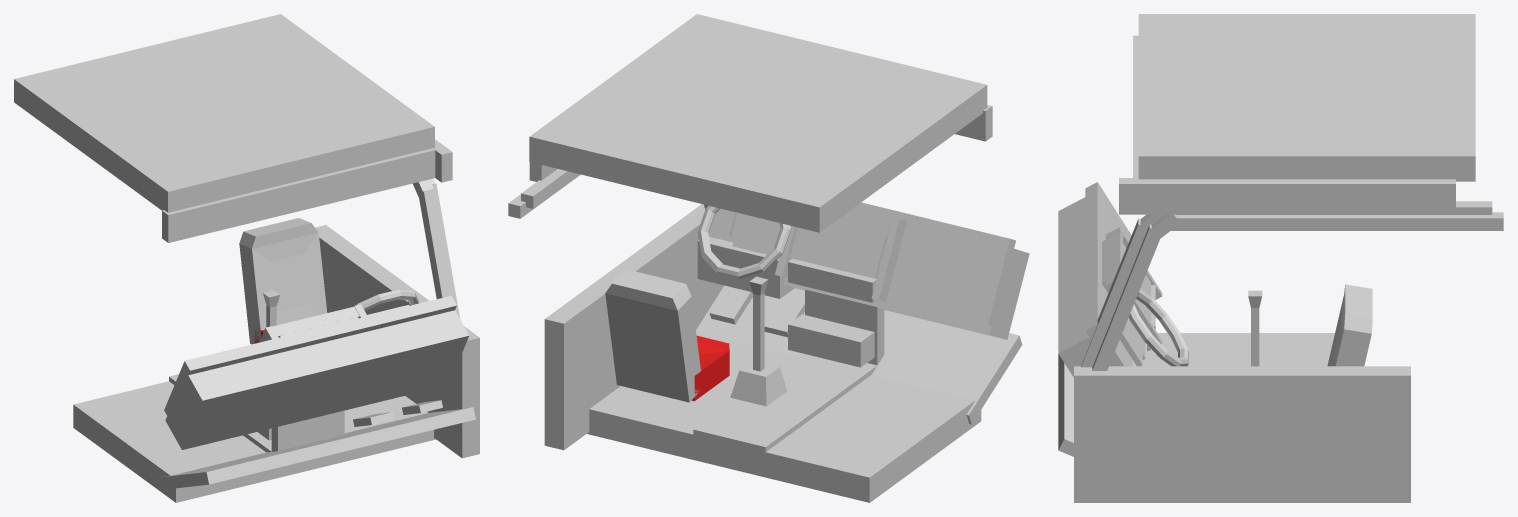
Rendered from Truck Cockpit.fbx.
The picture shows the model from 3 angles, left to right: view 1: azimuth 30°, elevation 25°; view 2: azimuth 150°, elevation 25°; view 3: azimuth 270°, elevation 25°; orthographic projection. The views are drawn at different scales.
Visible parts, largest first — view 1: cube_19, cube_7, cube_11, cube_17, cube_9, cube, cube_6, cube_4, cube_12, cube_5, cube_30, torus (+1 smaller); view 2: cube_19, cube_11, cube_9, cube_6, cube_4, cube, cube_10, cube_24, cube_27, cube_7, cube_33, cube_5 (+13 smaller); view 3: cube_19, cube_9, cube_18, cube_16, cube_11, cube_7, cube_4, cube, cube_8, cube_12, torus, cube_6 (+4 smaller).
Boxes of the visible parts, left/top/right/bottom form: cube_19: left=14, top=14, right=434, bottom=212; cube_7: left=165, top=310, right=469, bottom=449; cube_11: left=73, top=381, right=435, bottom=502; cube_17: left=162, top=148, right=435, bottom=242; cube_9: left=315, top=225, right=479, bottom=458; cube: left=239, top=218, right=327, bottom=344; cube_6: left=160, top=407, right=475, bottom=489; cube_4: left=164, top=295, right=456, bottom=419; cube_12: left=419, top=189, right=456, bottom=312; cube_5: left=271, top=410, right=344, bottom=451; cube_30: left=266, top=306, right=359, bottom=338; torus: left=355, top=289, right=418, bottom=310; cube_19: left=529, top=14, right=987, bottom=232; cube_11: left=587, top=332, right=981, bottom=502; cube_9: left=544, top=204, right=724, bottom=450; cube_6: left=696, top=285, right=1022, bottom=424; cube_4: left=708, top=202, right=1015, bottom=326; cube: left=605, top=269, right=700, bottom=402; cube_10: left=693, top=352, right=877, bottom=454; cube_24: left=790, top=225, right=886, bottom=278; cube_27: left=788, top=314, right=874, bottom=367; cube_7: left=783, top=248, right=1029, bottom=339; cube_33: left=697, top=236, right=794, bottom=298; cube_5: left=805, top=289, right=884, bottom=365; cube_19: left=1138, top=14, right=1475, bottom=181; cube_9: left=1074, top=366, right=1410, bottom=502; cube_18: left=1119, top=178, right=1455, bottom=214; cube_16: left=1167, top=212, right=1503, bottom=230; cube_11: left=1158, top=333, right=1334, bottom=366; cube_7: left=1058, top=197, right=1114, bottom=377; cube_4: left=1085, top=182, right=1132, bottom=366; cube: left=1327, top=284, right=1372, bottom=366; cube_8: left=1092, top=224, right=1162, bottom=370; cube_12: left=1081, top=218, right=1147, bottom=367; torus: left=1128, top=289, right=1188, bottom=366; cube_6: left=1058, top=354, right=1073, bottom=456.
Bounding box in the file's own units: 800 × 838 × 991.
1 material, 1 textured.
